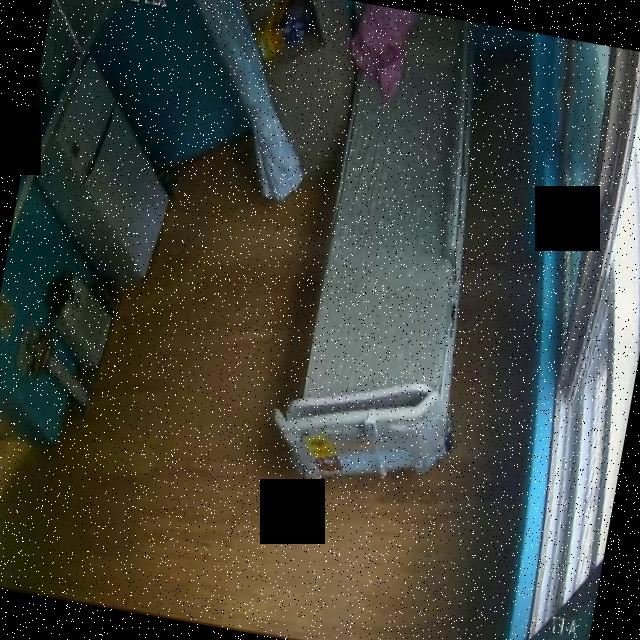bed: (265, 2, 518, 501)
